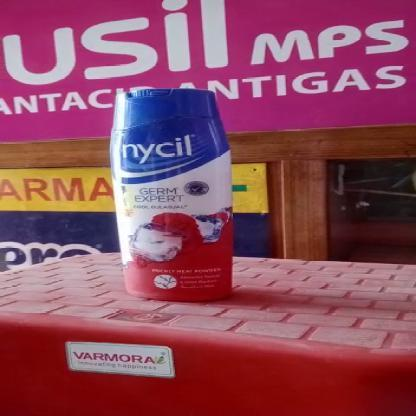Nycil Prickly Heat Powder: (107, 82, 236, 302)
